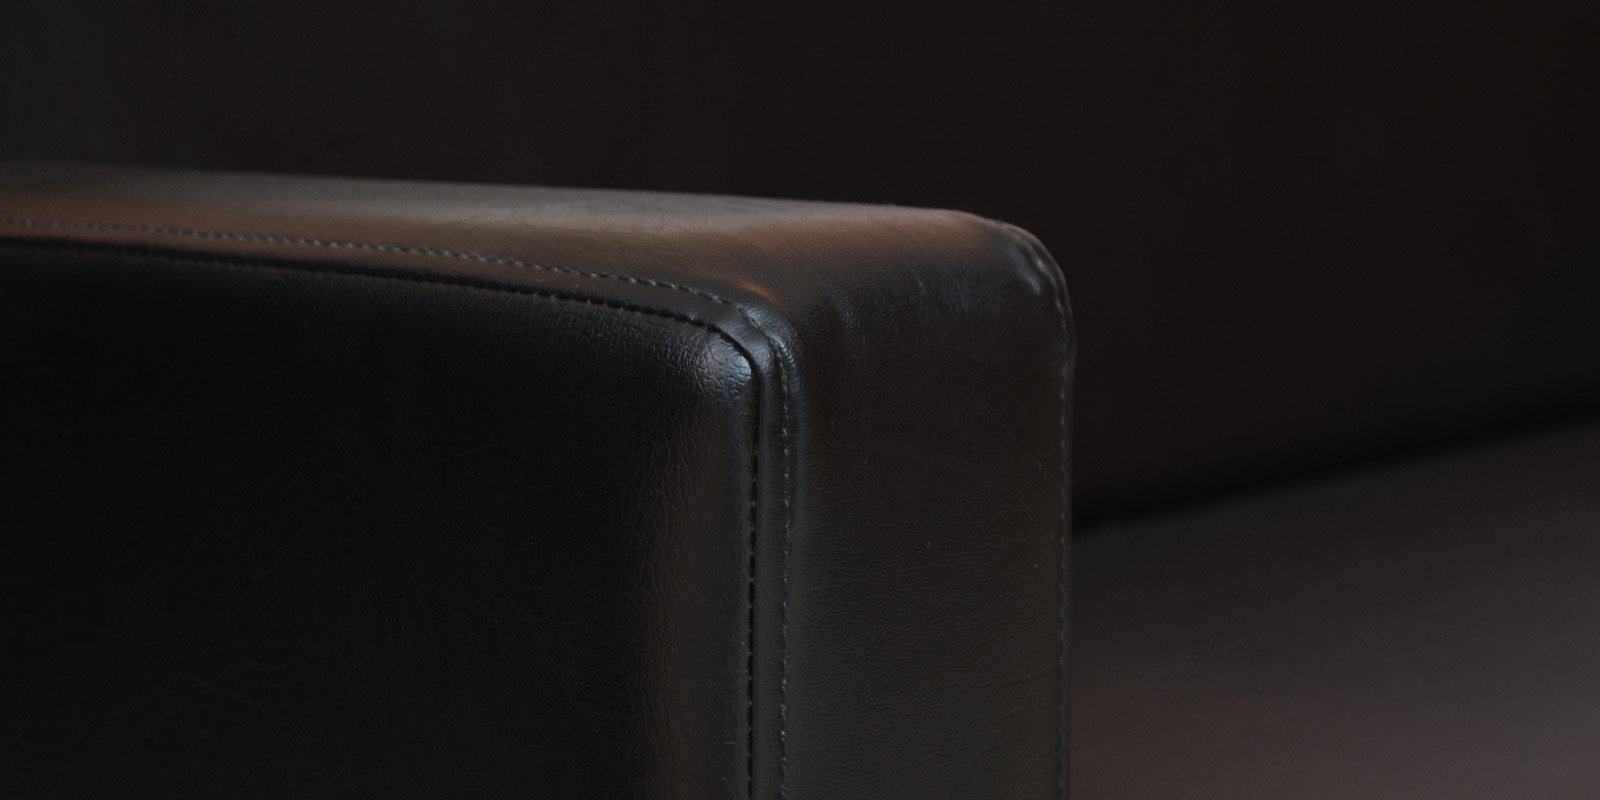Felix Three Seater Sofa in Black Leatherette by Crystal Furnitech: (7, 6, 1580, 800)
